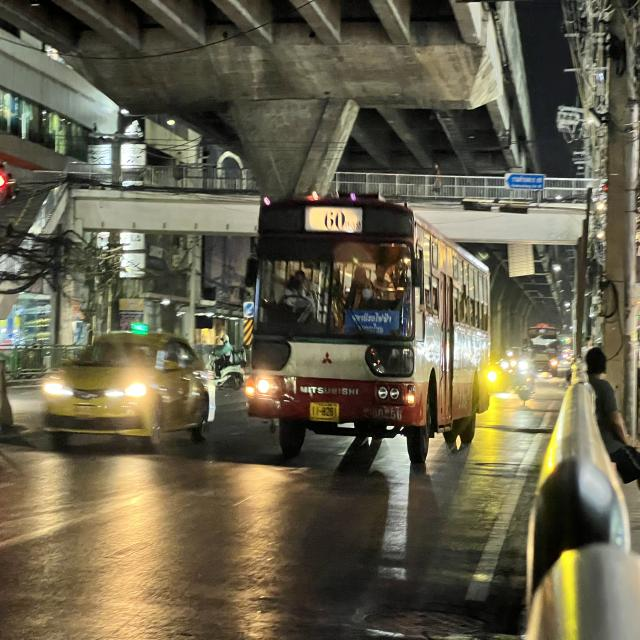BMTA-bus: (244, 195, 491, 469)
Bus-Line-Number: (304, 206, 363, 234)
Destination-Sign-Normal: (343, 309, 400, 337)
